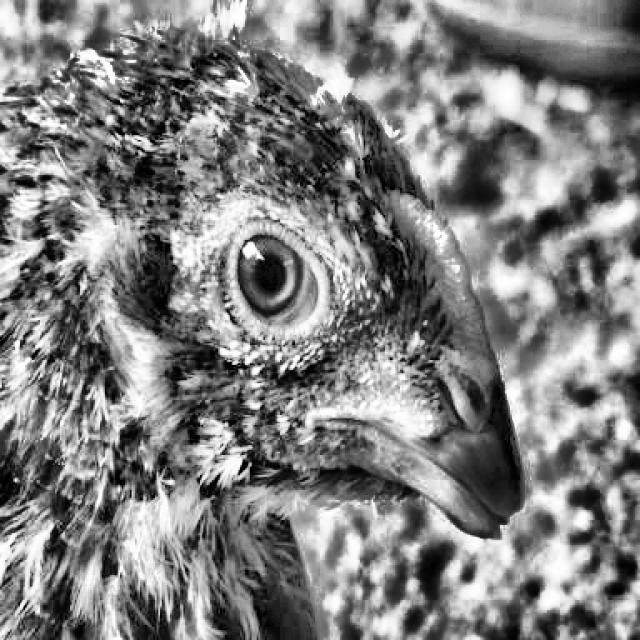Healthy: (206, 222, 342, 363)
